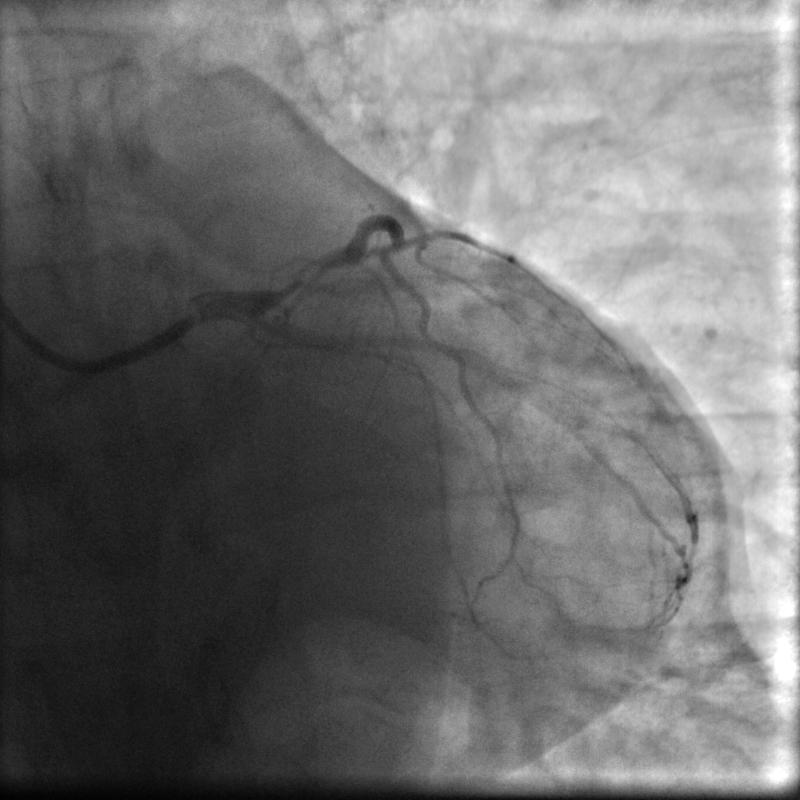Stenosis: (272, 252, 344, 296)
